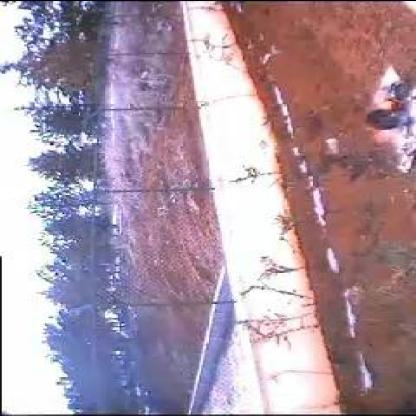foggia-v2-map80-epoch100 - v1 4323: (383, 96, 399, 108)
